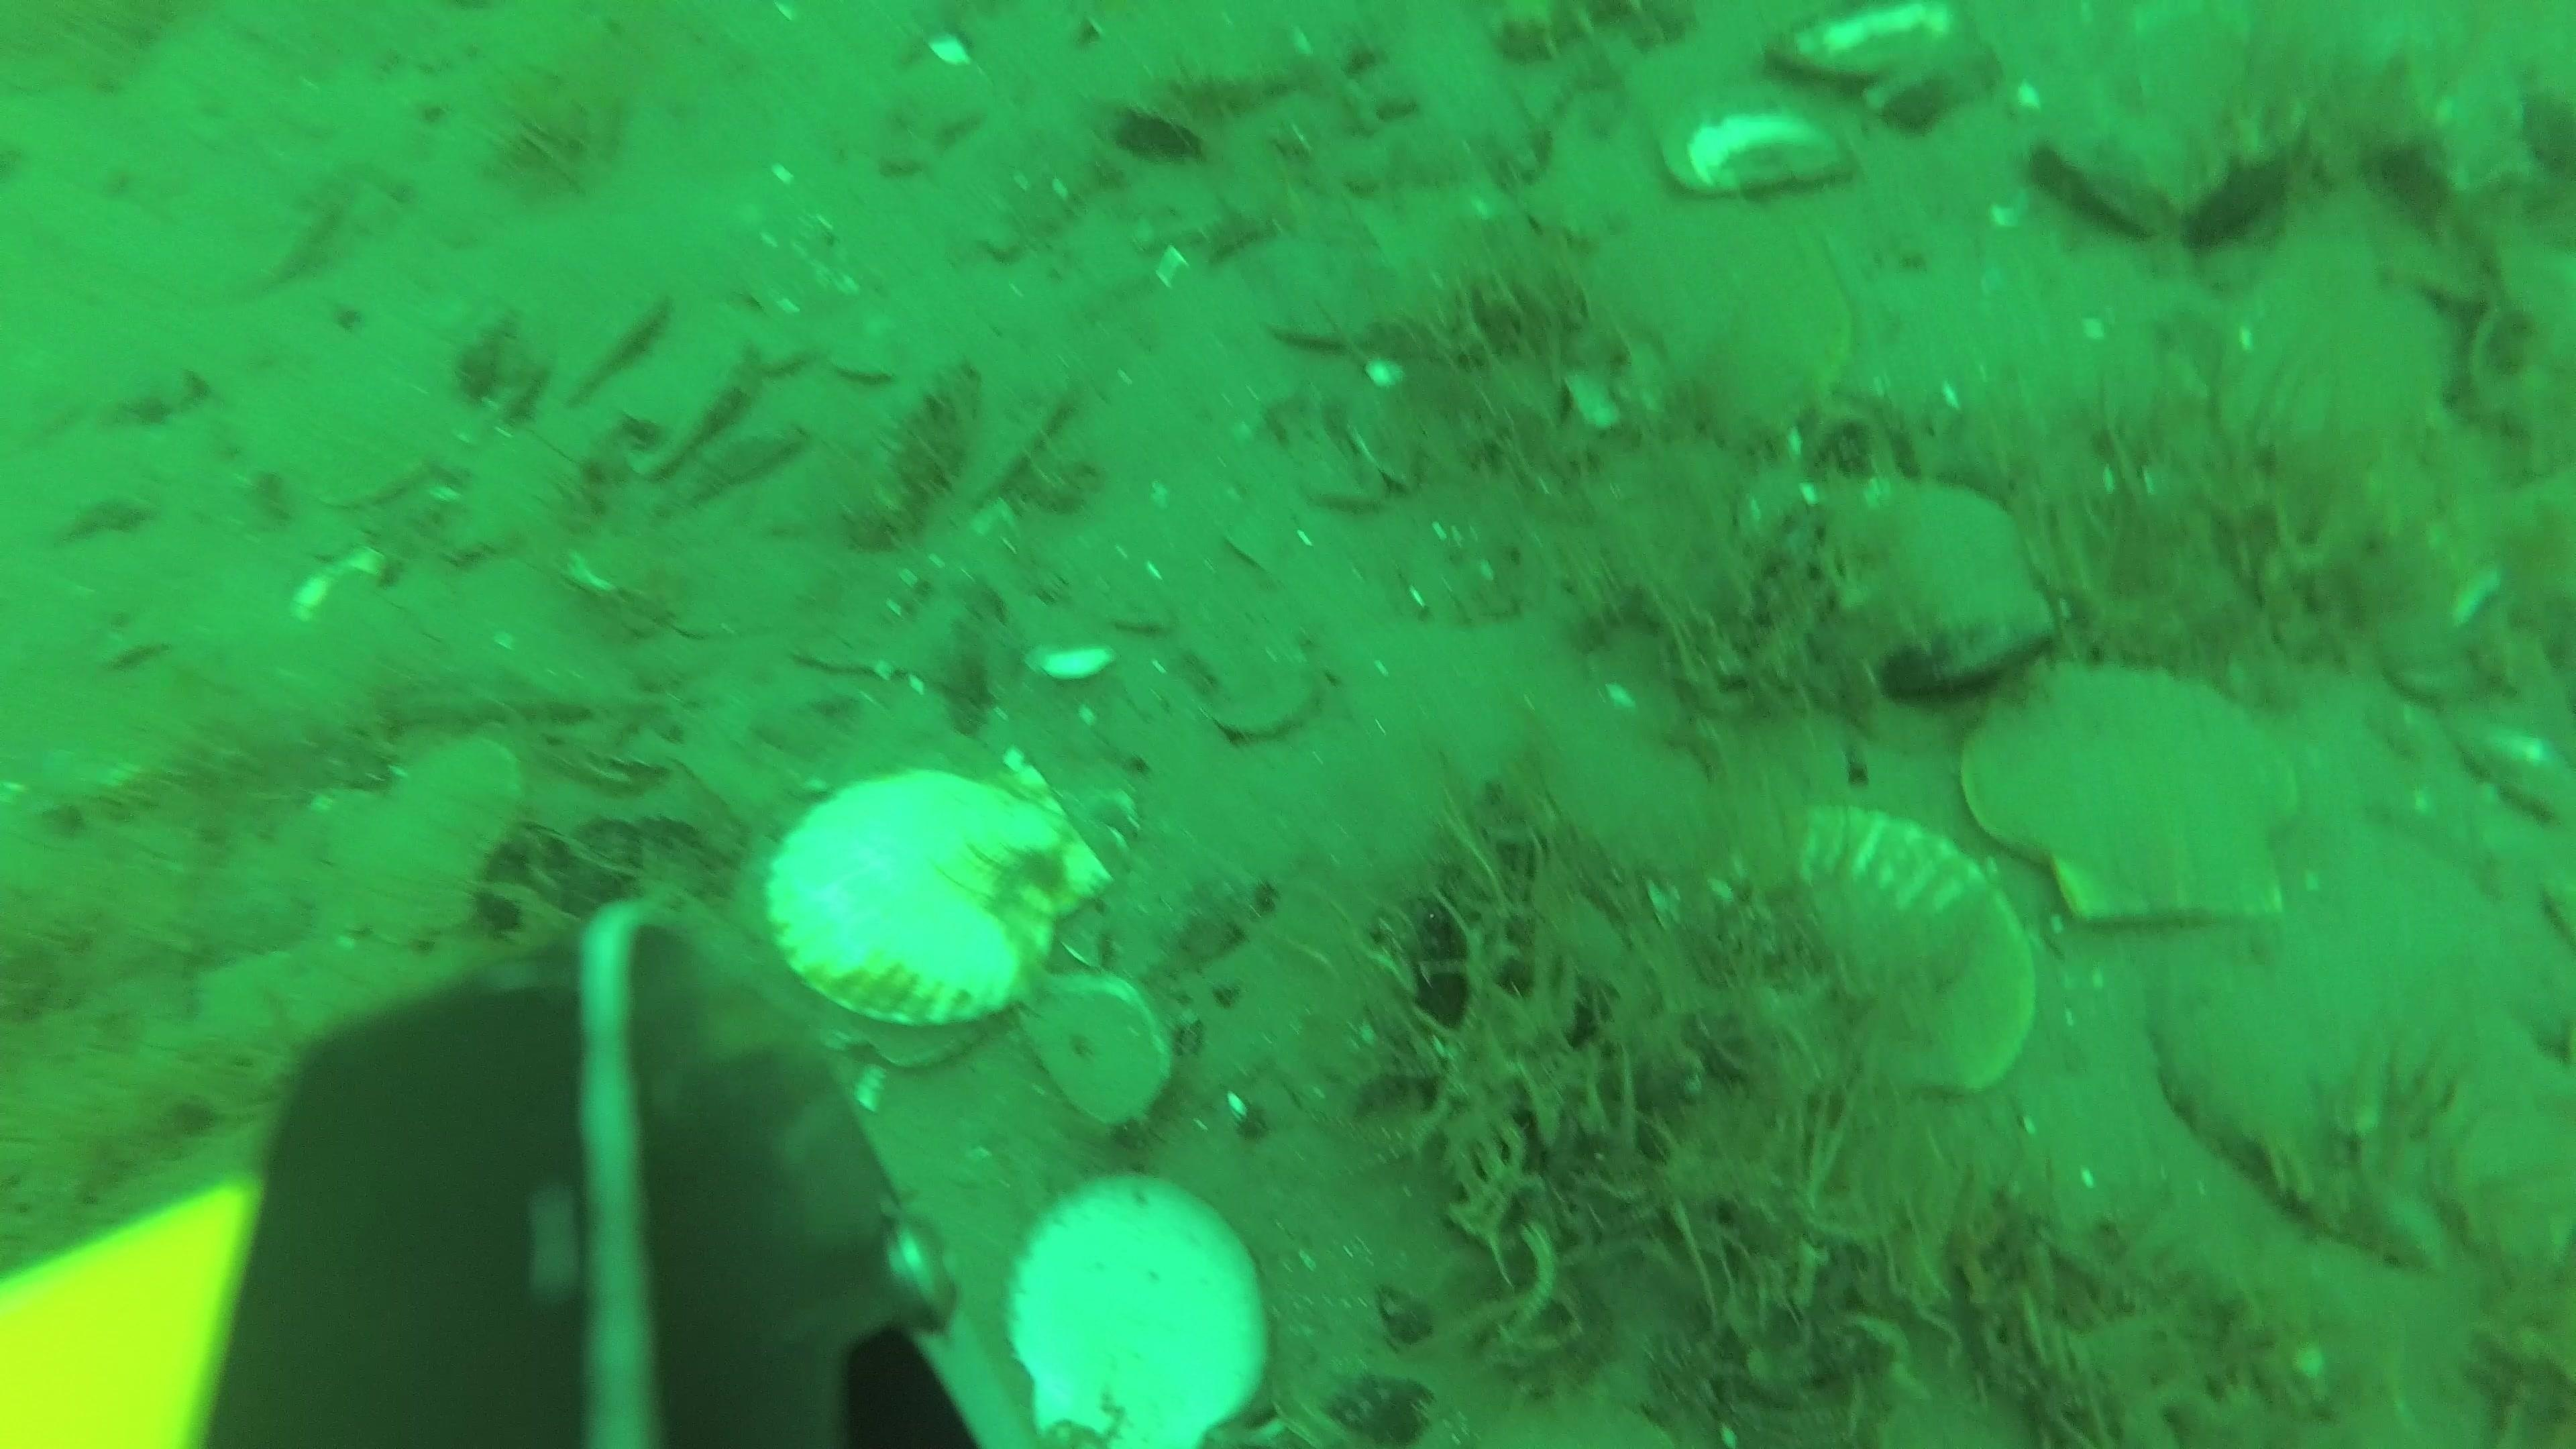scallop: (1668, 805, 2038, 1104), (761, 763, 1120, 1049), (1959, 658, 2304, 931), (1003, 1180, 1270, 1447), (1582, 191, 1854, 446), (1810, 472, 2054, 681), (184, 934, 460, 1095), (313, 734, 527, 938), (2226, 269, 2452, 455), (244, 363, 448, 511), (1192, 616, 1318, 740)
